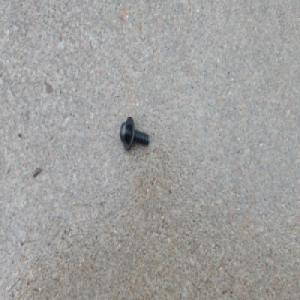BoltWasher: (118, 115, 148, 151)
